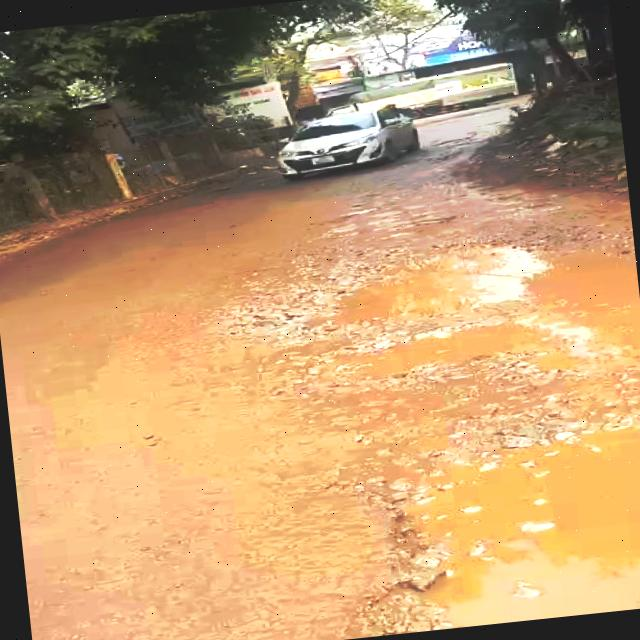pothole: (241, 219, 640, 419), (323, 406, 640, 639)
